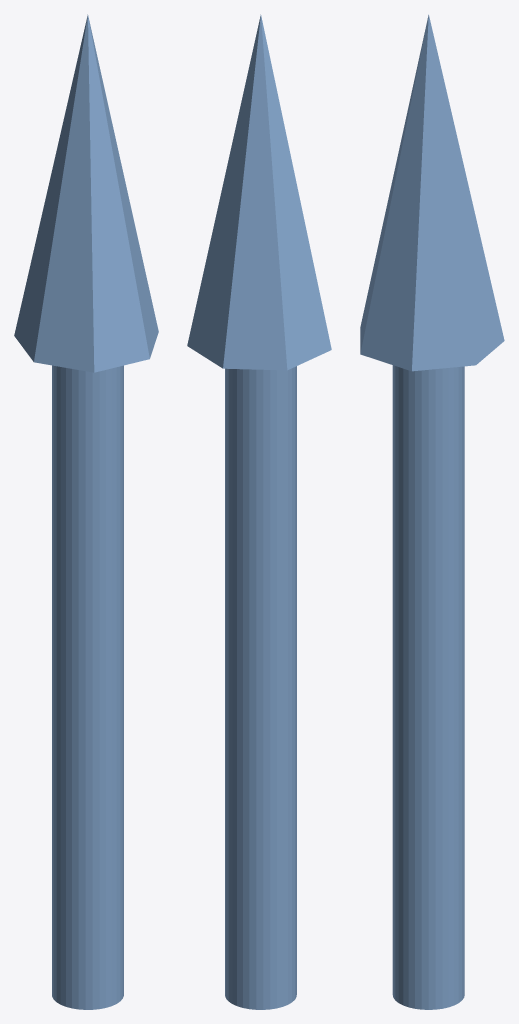
The model's file is field_arrow.fbx.
3 views of the same model, side by side, from view 1: azimuth 30°, elevation 25°; view 2: azimuth 150°, elevation 25°; view 3: azimuth 270°, elevation 25° (orthographic).
Parts seen in each view (by area): view 1: Arrow; view 2: Arrow; view 3: Arrow.
Part boxes in pixels (box(x1,y1,x2,y2)): Arrow: box(14, 14, 158, 1009); Arrow: box(187, 14, 331, 1009); Arrow: box(360, 14, 504, 1009).
Bounding box in the file's own units: 20 × 150 × 20.
